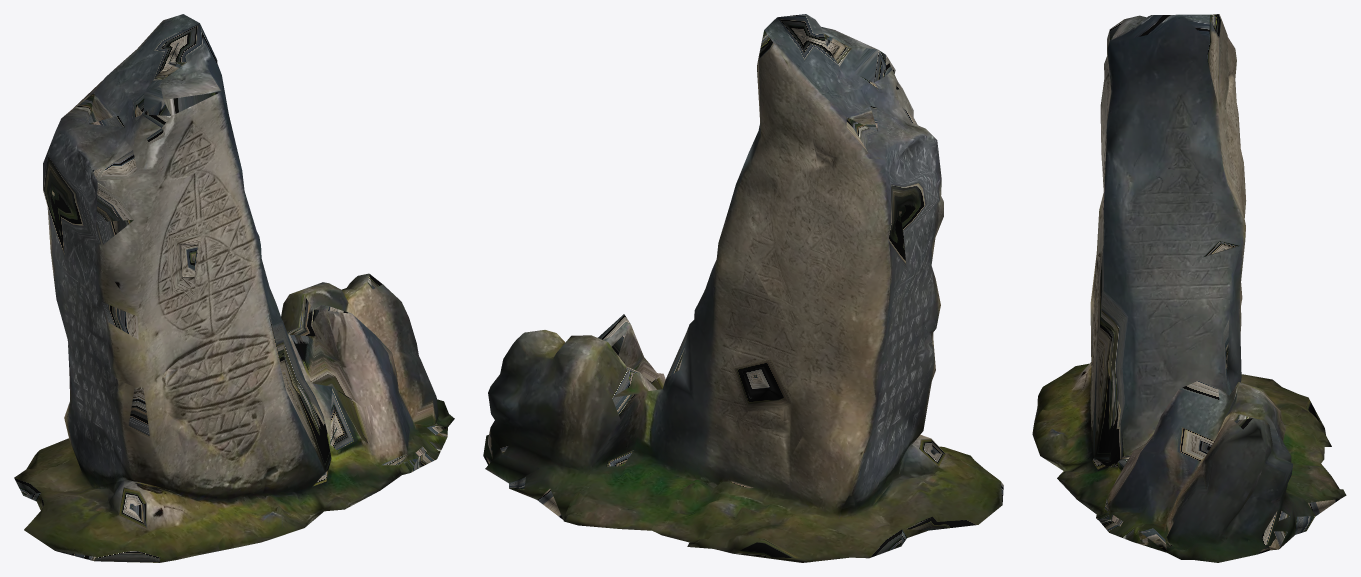
File: A_big_menhir_with_anc.glb
The picture shows the model from 3 angles, left to right: view 1: azimuth 30°, elevation 25°; view 2: azimuth 150°, elevation 25°; view 3: azimuth 270°, elevation 25°; orthographic projection. The views are drawn at different scales.
Parts seen in each view (by area): view 1: A_big_menhir_with_anc; view 2: A_big_menhir_with_anc; view 3: A_big_menhir_with_anc.
Boxes of the visible parts, x1=… form: A_big_menhir_with_anc: x1=14, y1=14, x2=454, y2=562; A_big_menhir_with_anc: x1=483, y1=14, x2=1003, y2=562; A_big_menhir_with_anc: x1=1032, y1=14, x2=1346, y2=562.
Size of the model in its own units: 1.99 by 1.94 by 1.29.
1 material, 1 textured.
